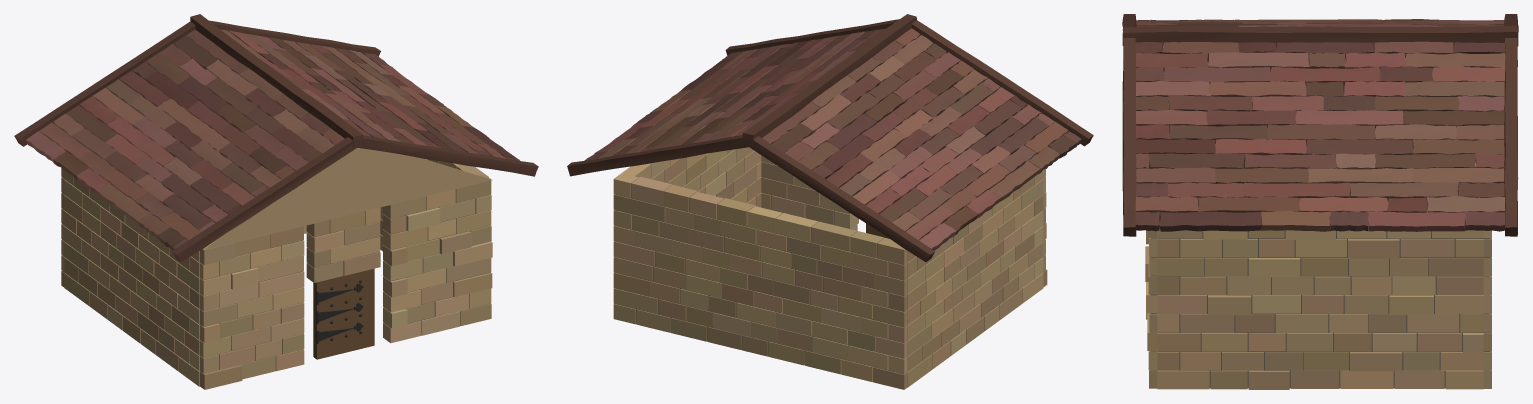
File: stone_cottage.glb
3 renders of one model, left to right at view 1: azimuth 30°, elevation 25°; view 2: azimuth 150°, elevation 25°; view 3: azimuth 270°, elevation 25°, orthographic. The views are drawn at different scales.
Parts seen in each view (by area): view 1: three-low-poly stone cottage, object 2, object 3, three-low-poly arched cottage door; view 2: three-low-poly stone cottage, object 2, object 3; view 3: object 3, three-low-poly stone cottage, object 2.
Boxes of the visible parts, x1=… form: three-low-poly stone cottage: x1=14, y1=14, x2=538, y2=389; object 2: x1=26, y1=29, x2=344, y2=250; object 3: x1=220, y1=29, x2=519, y2=160; three-low-poly arched cottage door: x1=313, y1=268, x2=374, y2=359; three-low-poly stone cottage: x1=567, y1=14, x2=1093, y2=389; object 2: x1=762, y1=28, x2=1081, y2=250; object 3: x1=584, y1=28, x2=885, y2=160; object 3: x1=1135, y1=41, x2=1505, y2=231; three-low-poly stone cottage: x1=1122, y1=14, x2=1518, y2=389; object 2: x1=1136, y1=19, x2=1504, y2=27.
Bounding box in the file's own units: 6.5 × 3.9 × 5.09.
